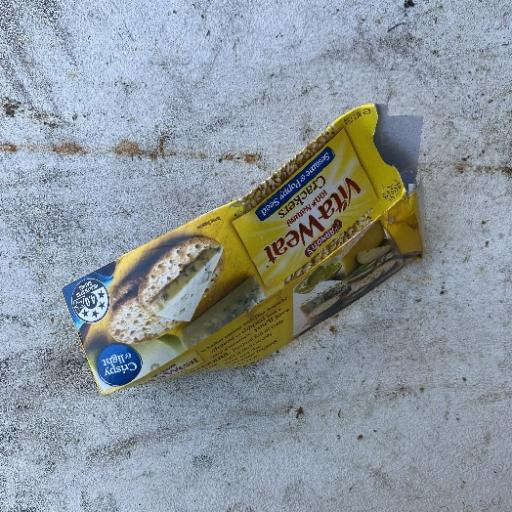Cardboard: (60, 102, 425, 396)
